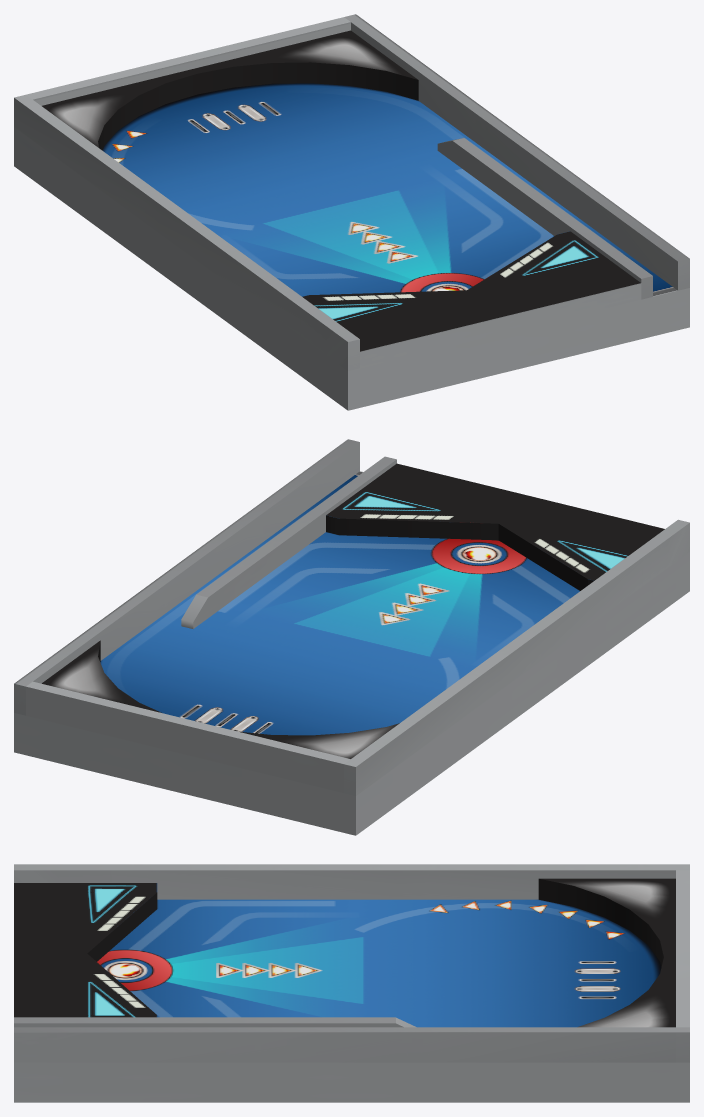
Rendered from board pinball.fbx.
The picture shows the model from 3 angles, top to bottom: view 1: azimuth 30°, elevation 25°; view 2: azimuth 150°, elevation 25°; view 3: azimuth 270°, elevation 25°; orthographic projection.
Visible parts, largest first — view 1: Cube, Cube.002, Cube.004, Cube.001; view 2: Cube, Cube.002, Cube.004, Cube.001; view 3: Cube, Cube.002, Cube.004, Cube.001.
Part boxes in pixels (bbox=[...]): Cube: bbox=[14, 83, 689, 410]; Cube.002: bbox=[14, 14, 689, 371]; Cube.004: bbox=[302, 231, 641, 368]; Cube.001: bbox=[42, 30, 418, 150]; Cube: bbox=[14, 471, 689, 835]; Cube.002: bbox=[14, 439, 689, 796]; Cube.004: bbox=[326, 463, 664, 590]; Cube.001: bbox=[42, 640, 399, 758]; Cube: bbox=[14, 899, 689, 1102]; Cube.002: bbox=[14, 864, 689, 1062]; Cube.004: bbox=[14, 883, 157, 1017]; Cube.001: bbox=[538, 878, 675, 1027].
Bounding box in the file's own units: 860 × 165 × 1455.
